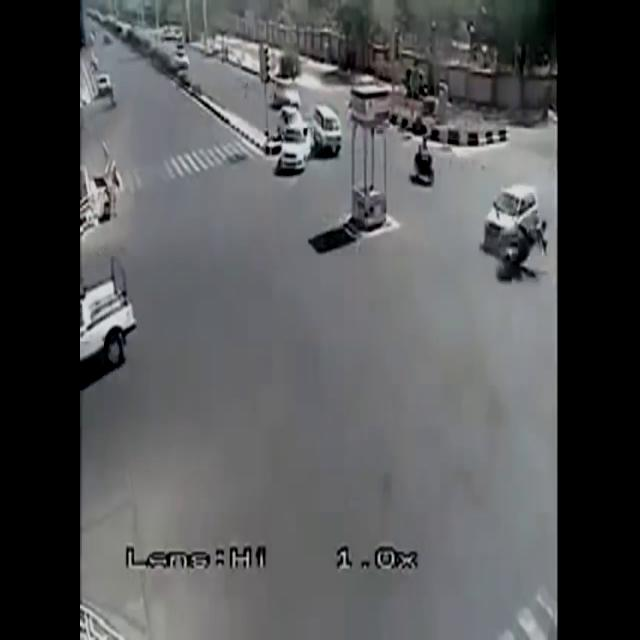accident: (480, 183, 552, 285)
non-accident: (273, 79, 343, 175), (275, 107, 341, 175)
